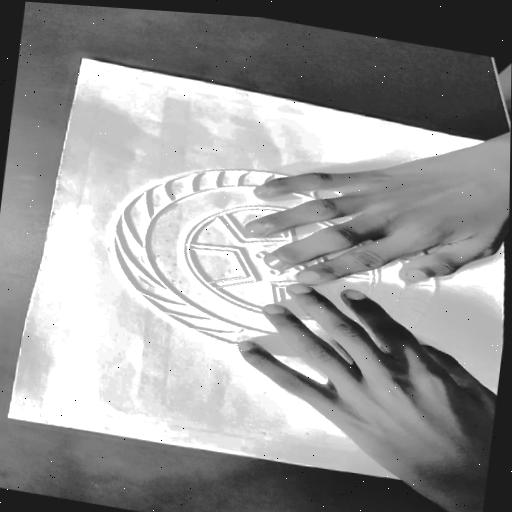tire: (84, 136, 465, 384)
top_left: (76, 52, 92, 63)
top_right: (0, 410, 16, 423)
